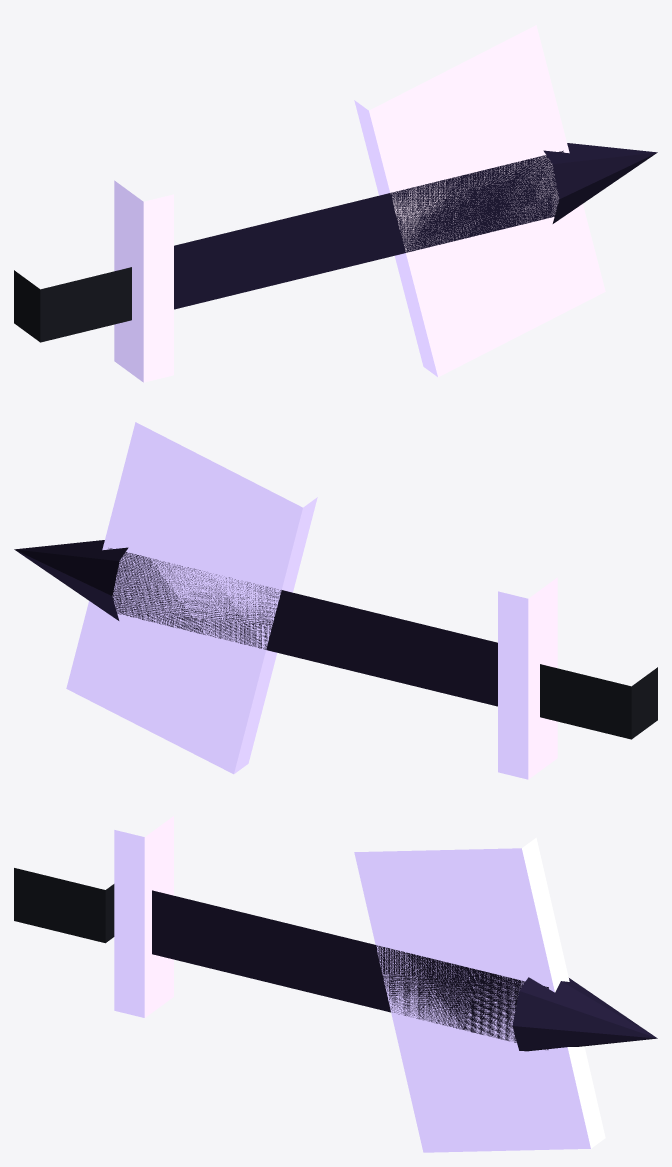
Rendered from anti-mage.glb.
The picture shows the model from 3 angles, top to bottom: view 1: azimuth 30°, elevation 25°; view 2: azimuth 150°, elevation 25°; view 3: azimuth 330°, elevation 25°; orthographic projection.
Parts seen in each view (by area): view 1: anti-mage-crescent, anti-mage-blade, anti-mage-guard, anti-mage-grip, anti-mage-tip; view 2: anti-mage-crescent, anti-mage-blade, anti-mage-guard, anti-mage-grip, anti-mage-tip; view 3: anti-mage-crescent, anti-mage-blade, anti-mage-guard, anti-mage-tip, anti-mage-grip.
Boxes of the visible parts, left/top/right/bottom form: anti-mage-crescent: left=354, top=25, right=605, bottom=377; anti-mage-blade: left=174, top=150, right=563, bottom=309; anti-mage-guard: left=114, top=180, right=173, bottom=382; anti-mage-grip: left=14, top=267, right=131, bottom=342; anti-mage-tip: left=543, top=143, right=657, bottom=223; anti-mage-crescent: left=66, top=422, right=317, bottom=774; anti-mage-blade: left=108, top=548, right=497, bottom=706; anti-mage-guard: left=498, top=577, right=557, bottom=779; anti-mage-grip: left=540, top=664, right=657, bottom=739; anti-mage-tip: left=14, top=540, right=128, bottom=620; anti-mage-crescent: left=354, top=837, right=605, bottom=1152; anti-mage-blade: left=152, top=890, right=548, bottom=1049; anti-mage-guard: left=114, top=816, right=173, bottom=1017; anti-mage-tip: left=512, top=977, right=657, bottom=1051; anti-mage-grip: left=14, top=868, right=114, bottom=943.
Size of the model in its own units: 1.24 by 0.617 by 0.16.
